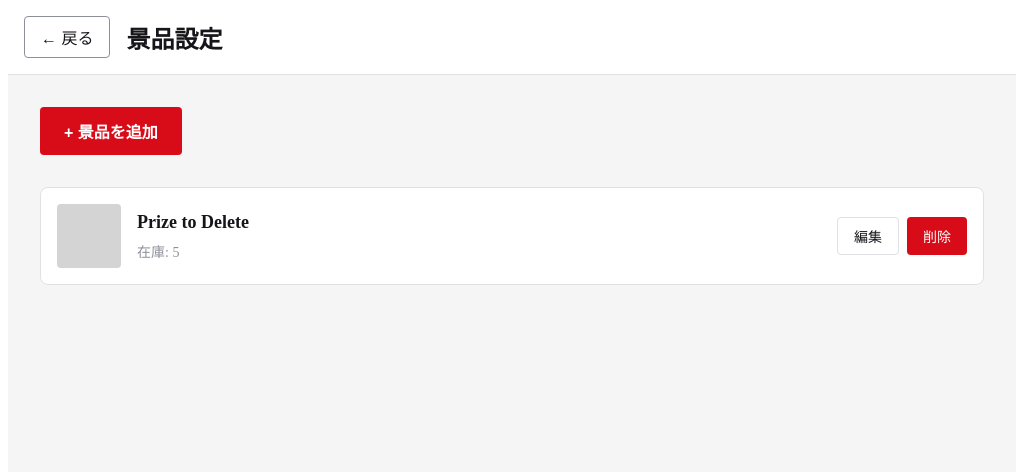
it: SettingsScreen › 景品削除 › should delete prize when confirmation is accepted
The image size is (1024, 472).
Expected: the heading "Prize to Delete" is shown, [137,212,249,232]
Click the button with test id "delete-prize-button-0". click: coordinates (937, 236)
box: [907,217,967,255]
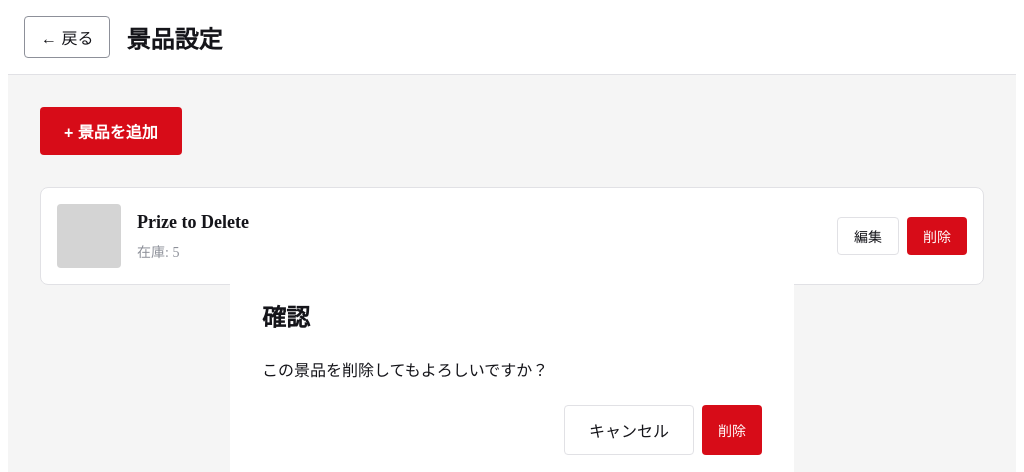
Expected: the text "この景品を削除してもよろしいですか？" is shown, [262,362,548,378]
# 2つ目が確認ダイアログの削除ボタン（1つ目は景品リストの削除ボタン）
Click the button "削除". click: coordinates (732, 430)
box: [702,404,762,454]
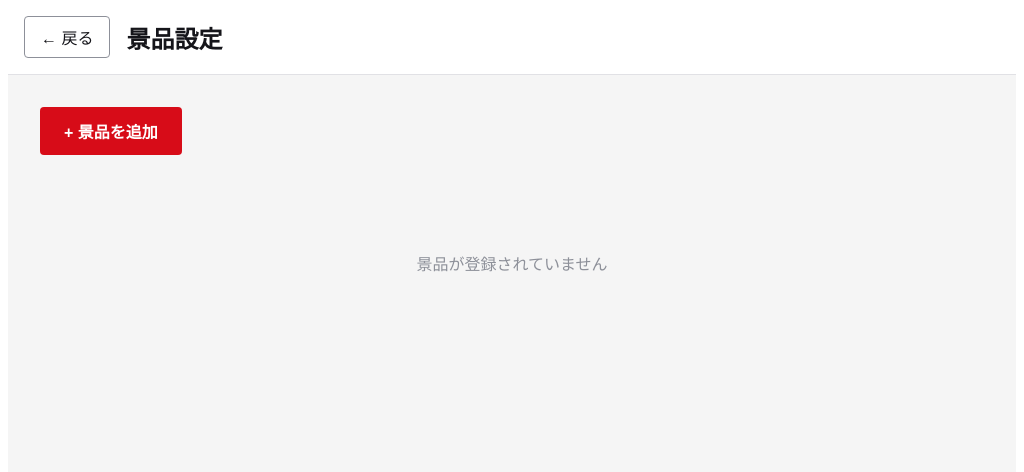
Expected: no headings "Prize to Delete" are shown
